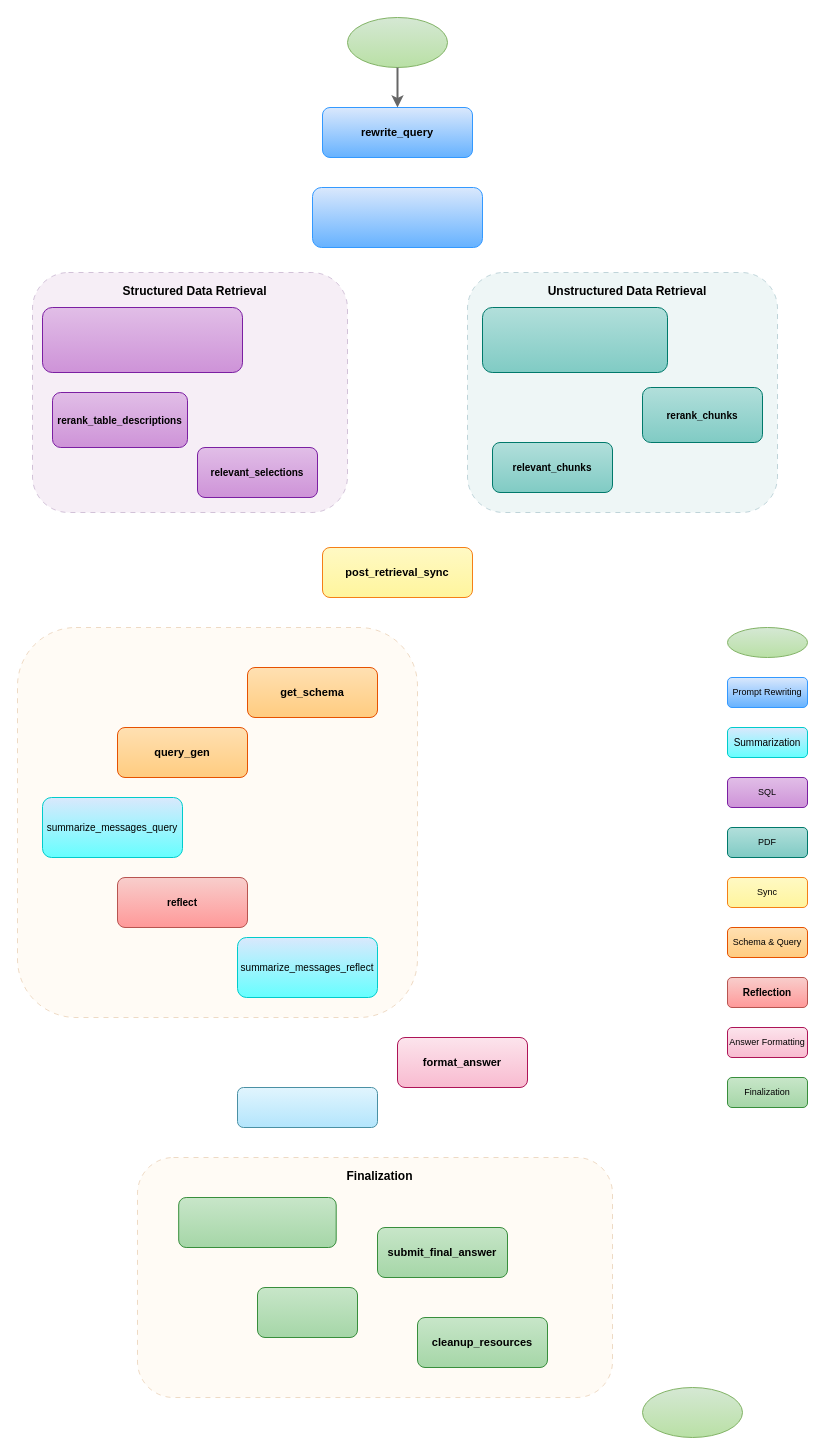
The diagram is 825 pixels wide and 1455 high, and some of its shapes have lost their labels. The shapes that lost their labels are listed below. From the top down, each one's box as (x1, y1, x2, y2) in pixels, then its label:
(346, 16, 448, 68): start
(312, 186, 482, 248): summarize_messages_rewrite
(42, 306, 242, 372): retrieve_similar_selections_hybrid_search
(482, 306, 668, 372): retrieve_similar_chunks_hybrid_search
(726, 626, 808, 658): Start/End
(16, 626, 418, 1018): Query Generation & Reflection Loop
(236, 1086, 378, 1128): summarize_messages_format
(178, 1196, 336, 1248): generate_followup_prompts
(256, 1286, 358, 1338): save
(642, 1386, 742, 1438): __end__
